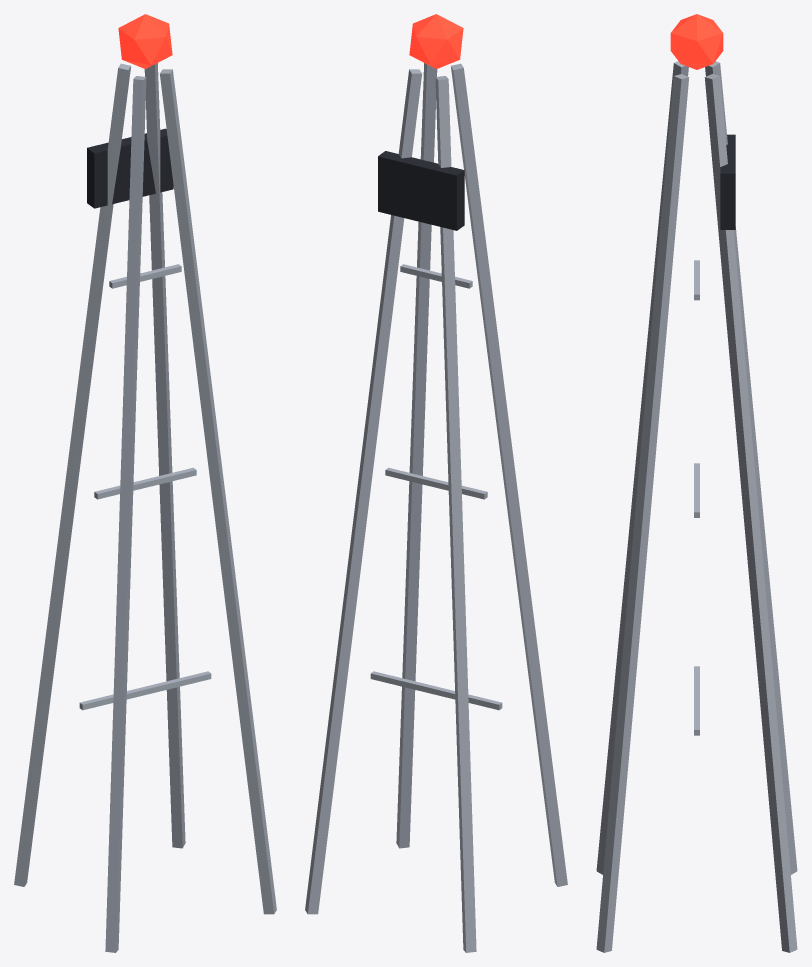
The model's file is lunar-antenna-tower.glb.
The picture shows the model from 3 angles, left to right: view 1: azimuth 30°, elevation 25°; view 2: azimuth 150°, elevation 25°; view 3: azimuth 270°, elevation 25°; orthographic projection.
Parts seen in each view (by area): view 1: antenna_tower; view 2: antenna_tower; view 3: antenna_tower.
Boxes of the visible parts, <box> form: antenna_tower: <box>14,14,276,952</box>; antenna_tower: <box>305,14,567,952</box>; antenna_tower: <box>596,14,797,952</box>.
Bounding box in the file's own units: 1.3 × 6.4 × 1.3.
